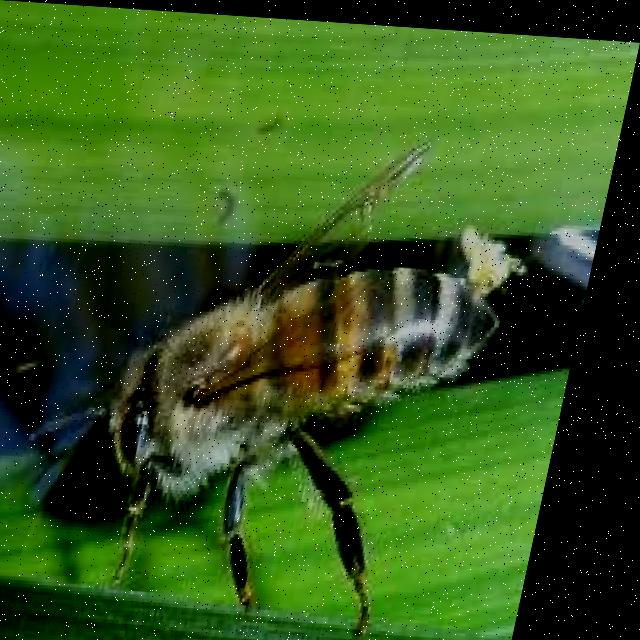Apis-mellifera-scutellata: (27, 95, 553, 640)
